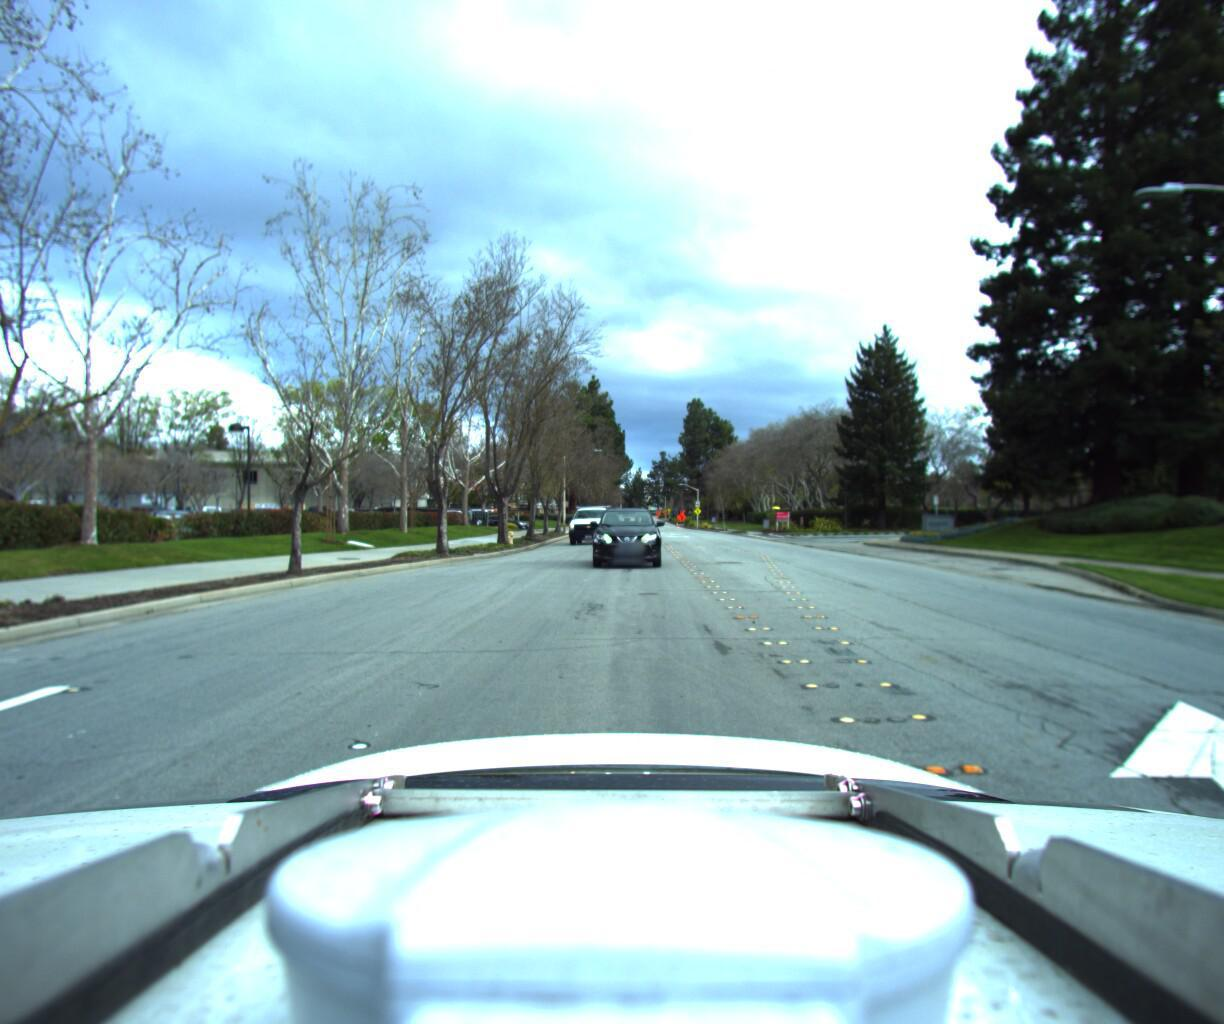car: (590, 500, 661, 565), (564, 501, 616, 543)
